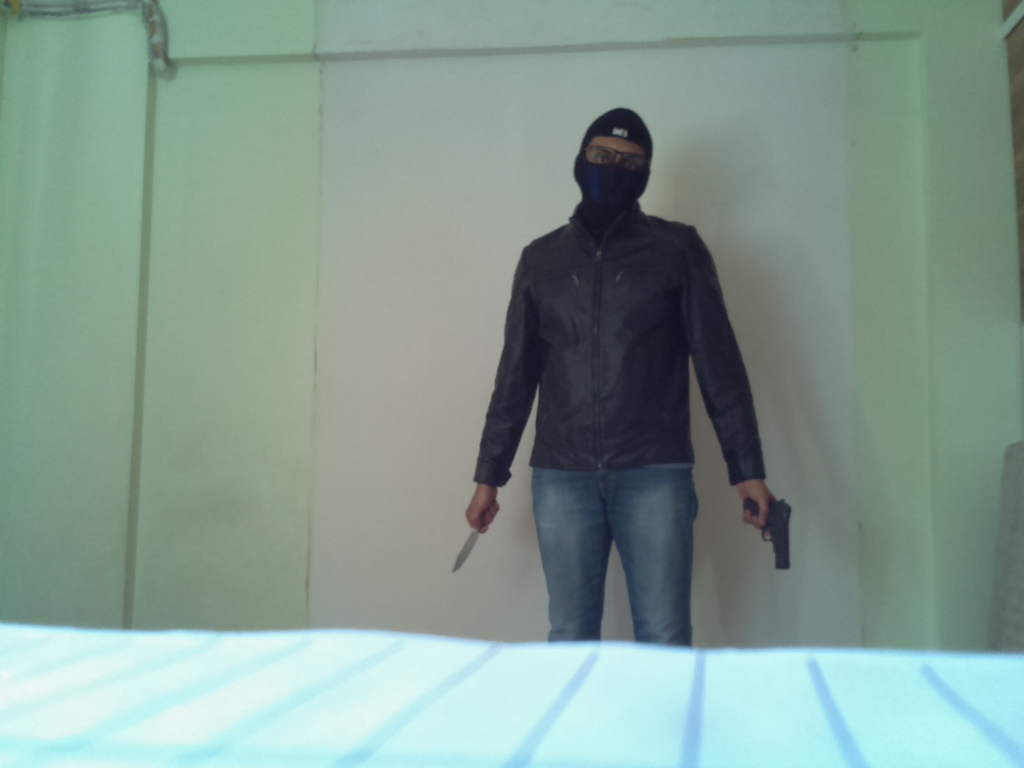gun: (739, 492, 796, 572)
knife: (447, 502, 498, 576)
